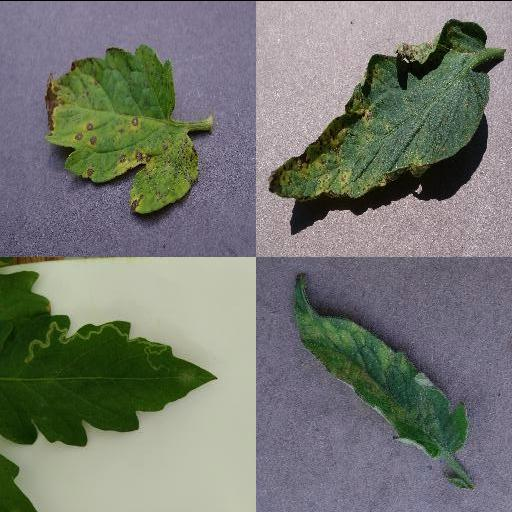Leaf Miner: (0, 315, 219, 447)
Leaf Mold: (291, 274, 469, 456)
Septoria: (267, 17, 491, 199), (43, 42, 199, 211)
